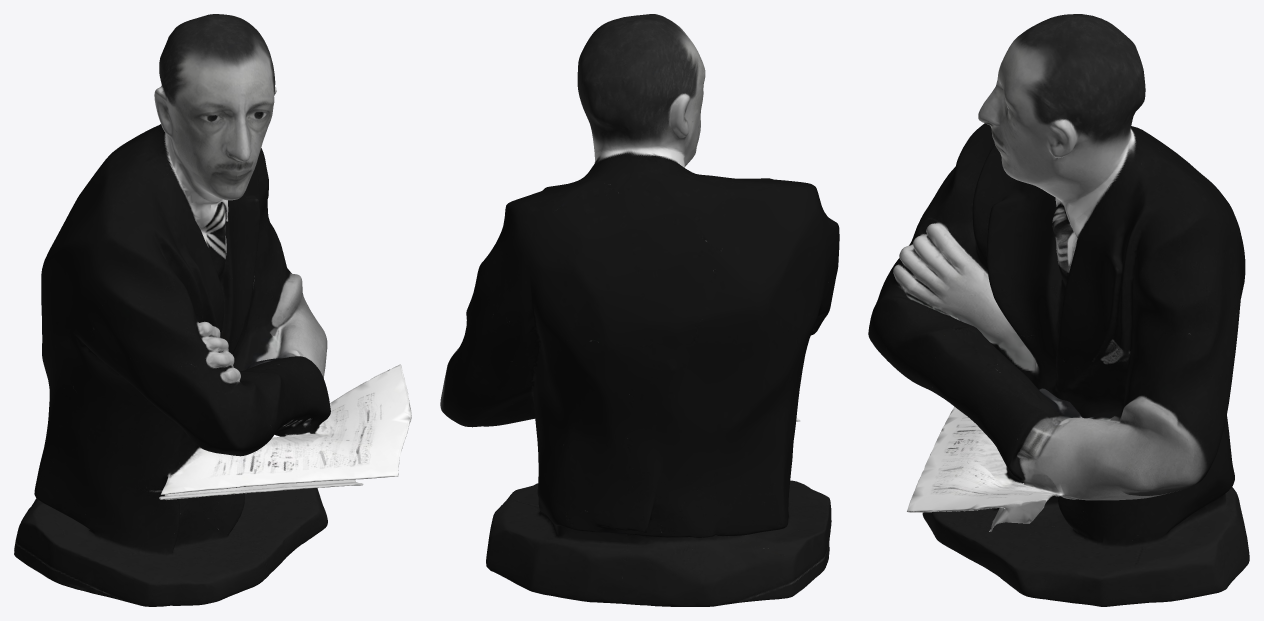
The model's file is stravinsky_face.glb.
3 views of the same model, side by side, from view 1: azimuth 30°, elevation 25°; view 2: azimuth 150°, elevation 25°; view 3: azimuth 270°, elevation 25° (orthographic). The views are drawn at different scales.
Bounding box in the file's own units: 1.35 × 1.9 × 1.23.
Materials: 1 (1 with a texture image).
